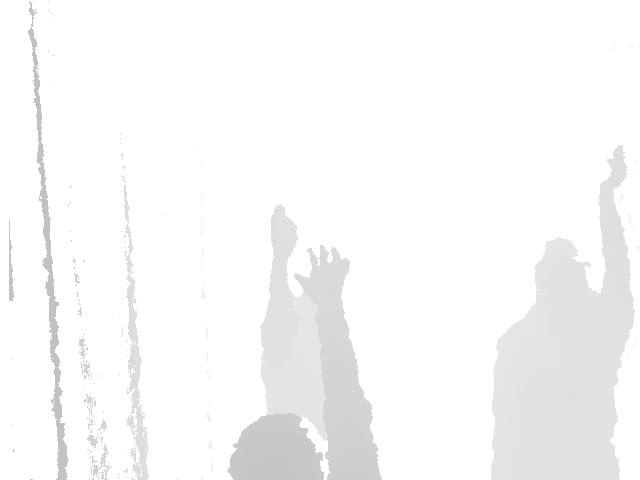hand: (293, 246, 353, 306), (597, 142, 628, 200)
head: (227, 411, 327, 480), (529, 237, 600, 311)
person: (485, 142, 636, 480), (234, 240, 383, 480), (258, 204, 348, 437)
